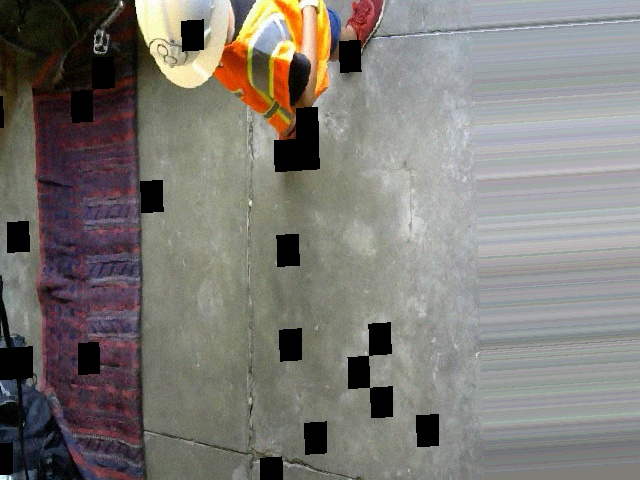eight: (146, 33, 186, 69)
